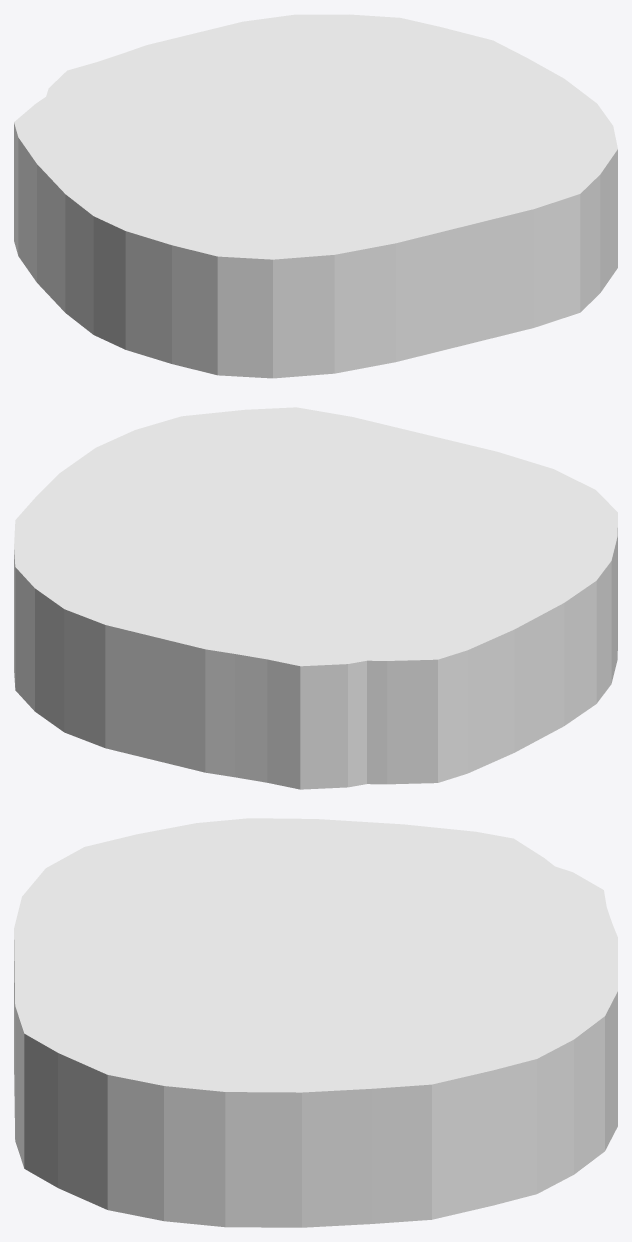
File: map_border1.obj
3 renders of one model, top to bottom at view 1: azimuth 30°, elevation 25°; view 2: azimuth 150°, elevation 25°; view 3: azimuth 270°, elevation 25°, orthographic. The views are drawn at different scales.
Visible parts, largest first — view 1: map_border1; view 2: map_border1; view 3: map_border1.
Boxes of the visible parts, x1,y1,x2,y2 form: map_border1: [14, 14, 617, 378]; map_border1: [14, 407, 617, 789]; map_border1: [14, 818, 617, 1227].
Bounding box in the file's own units: 713 × 164 × 664.
1 material, 1 textured.
